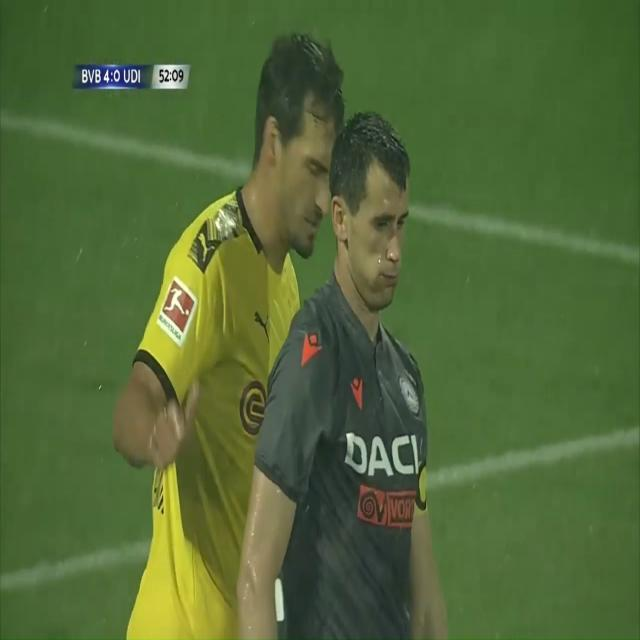player: (124, 1, 338, 640), (243, 115, 462, 640)
